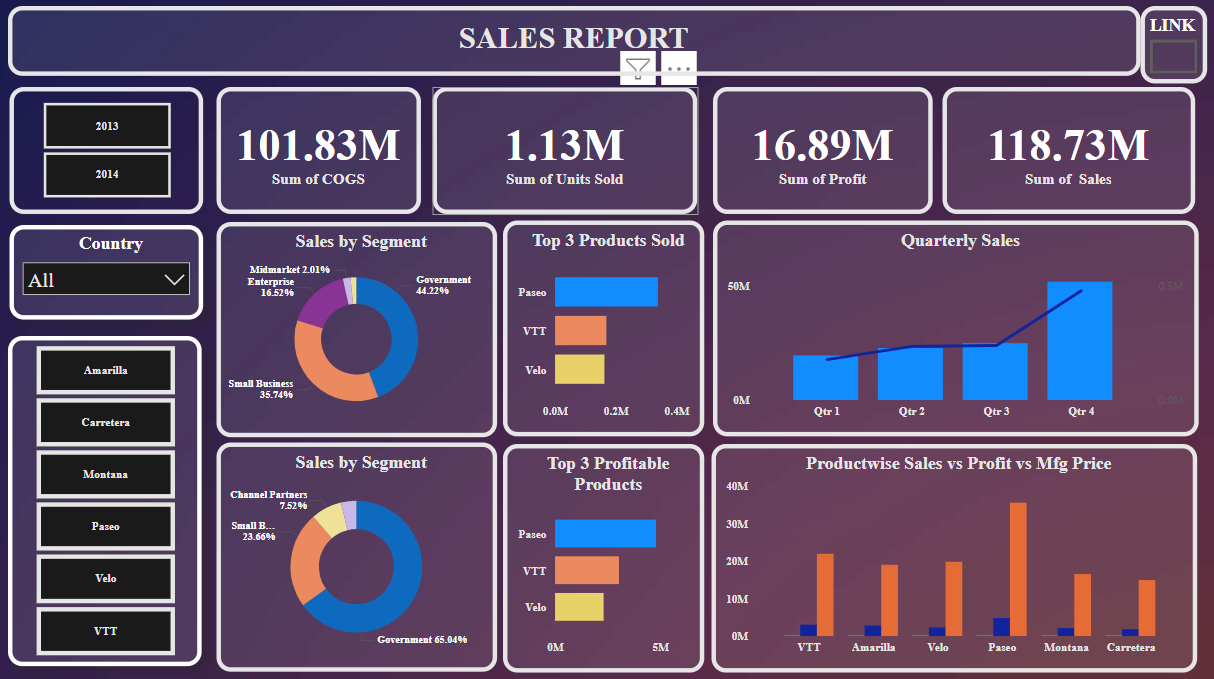

What the dashboard file says about the page in this screenshot:
{"tool":"powerbi","page":{"name":"Question 9","canvas":[1280,720],"ordinal":9},"visuals":[{"type":"card","fields":{"Values":["Sum(financials. Sales)"]},"box":[993.8,97.6,265.1,133.4],"z":0},{"type":"card","fields":{"Values":["Sum(financials.Profit)"]},"box":[753.1,97.6,231,133.4],"z":1000},{"type":"card","fields":{"Values":["Sum(financials.COGS)"]},"box":[231,97.6,214.7,133.4],"z":2000},{"type":"card","fields":{"Values":["Sum(financials.Units Sold)"]},"box":[458.7,97.6,278.1,133.4],"z":3000},{"type":"textbox","box":[13,13,1189,73.2],"z":4000},{"type":"slicer","fields":{"Values":["financials.Date.Variation.Date Hierarchy.Year"]},"box":[14.6,97.6,203.3,133.4],"z":5000},{"type":"slicer","title":"Country","fields":{"Values":["financials.Country"]},"box":[14.6,242.4,203.3,99.2],"z":6000},{"type":"slicer","fields":{"Values":["financials.Product"]},"box":[13,359.5,203.3,346.5],"z":7000},{"type":"donutChart","title":"Sales by Segment","fields":{"Category":["financials.Segment"],"Y":["Sum(financials. Sales)"]},"box":[231,239.1,294.4,226.1],"z":8000},{"type":"donutChart","title":"Sales by Segment","fields":{"Category":["financials.Segment"],"Y":["Sum(financials.Profit)"]},"box":[231,471.7,294.4,240.7],"z":9000},{"type":"clusteredBarChart","title":"Top 3 Products Sold","fields":{"Category":["financials.Product"],"Y":["Sum(financials.Units Sold)"]},"box":[532.9,238.1,211.7,226.8],"z":10000},{"type":"clusteredBarChart","title":"Top 3 Profitable Products","fields":{"Category":["financials.Product"],"Y":["Sum(financials.Profit)"]},"box":[532.9,472.4,211.7,240],"z":11000},{"type":"lineClusteredColumnComboChart","title":"Quarterly Sales","fields":{"Category":["financials.Date.Variation.Date Hierarchy.Quarter"],"Y":["Sum(financials. Sales)"],"Y2":["Sum(financials.Units Sold)"]},"box":[752.1,238.1,510.2,226.8],"z":12000},{"type":"clusteredColumnChart","title":"Productwise Sales vs Profit vs Mfg Price","fields":{"Category":["financials.Product"],"Y":["Sum(financials.Manufacturing Price)","Sum(financials.Profit)","Sum(financials.Gross Sales)"]},"box":[752,472,510,240],"z":13000},{"type":"actionButton","title":"LINK","box":[1202,13,69.9,81.3],"z":14000}]}

Visuals, with their boxes in screenshot pixels (x1, y1, x2, y2), scaled from the page's 1280x720 canvas onto the 1214x679 screenshot:
card - Sum(financials. Sales): pyautogui.locateOnScreen(943, 92, 1194, 218)
card - Sum(financials.Profit): pyautogui.locateOnScreen(714, 92, 933, 218)
card - Sum(financials.COGS): pyautogui.locateOnScreen(219, 92, 423, 218)
card - Sum(financials.Units Sold): pyautogui.locateOnScreen(435, 92, 699, 218)
textbox: pyautogui.locateOnScreen(12, 12, 1140, 81)
slicer - financials.Date.Variation.Date Hierarchy.Year: pyautogui.locateOnScreen(14, 92, 207, 218)
"Country" slicer: pyautogui.locateOnScreen(14, 229, 207, 322)
slicer - financials.Product: pyautogui.locateOnScreen(12, 339, 205, 666)
"Sales by Segment" donutChart: pyautogui.locateOnScreen(219, 225, 498, 439)
"Sales by Segment" donutChart: pyautogui.locateOnScreen(219, 445, 498, 672)
"Top 3 Products Sold" clusteredBarChart: pyautogui.locateOnScreen(505, 225, 706, 438)
"Top 3 Profitable Products" clusteredBarChart: pyautogui.locateOnScreen(505, 445, 706, 672)
"Quarterly Sales" lineClusteredColumnComboChart: pyautogui.locateOnScreen(713, 225, 1197, 438)
"Productwise Sales vs Profit vs Mfg Price" clusteredColumnChart: pyautogui.locateOnScreen(713, 445, 1197, 671)
"LINK" actionButton: pyautogui.locateOnScreen(1140, 12, 1206, 89)
